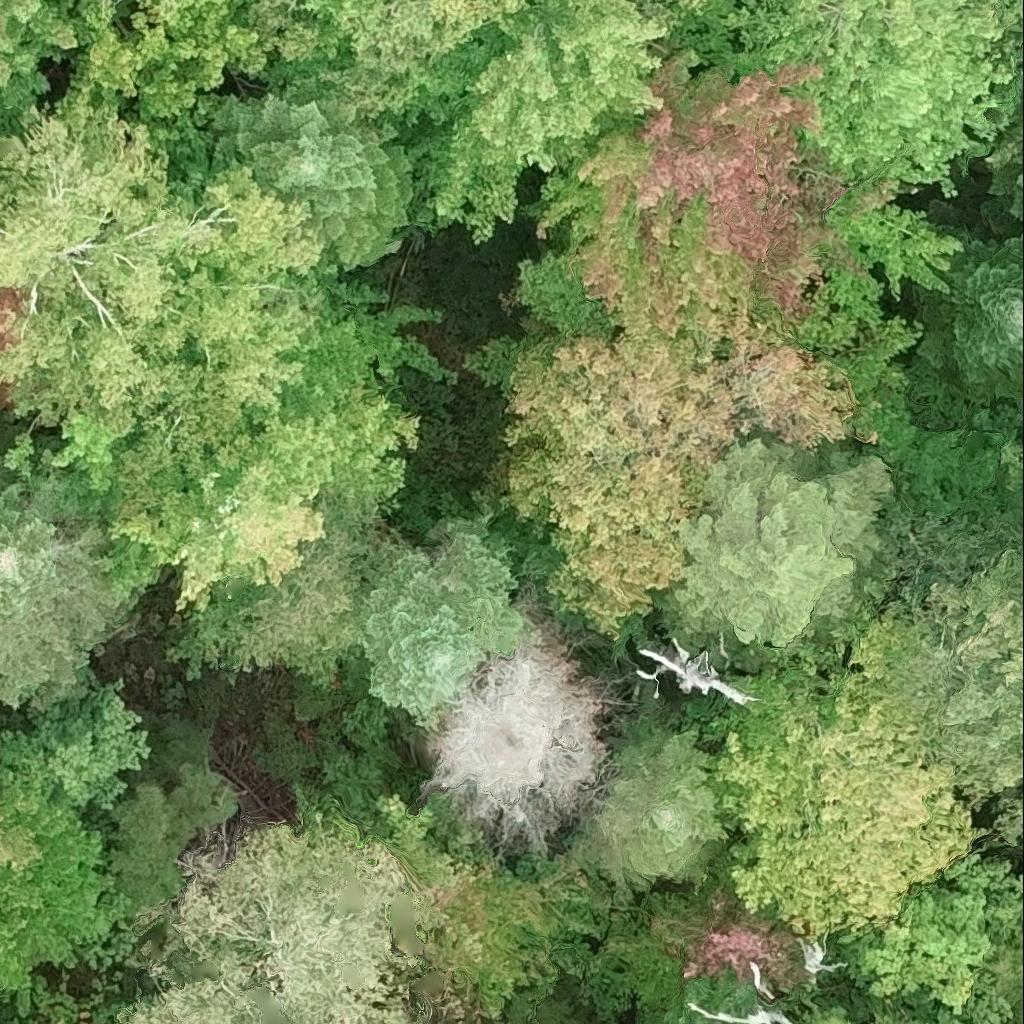crown: (503, 6, 960, 351), (465, 306, 922, 644), (11, 260, 442, 609), (0, 106, 330, 469), (714, 594, 979, 943), (399, 0, 669, 243), (705, 0, 1023, 198), (321, 795, 590, 1019), (122, 828, 420, 1023), (669, 431, 917, 656), (160, 490, 421, 691), (410, 622, 628, 862), (537, 852, 808, 1016), (195, 78, 418, 262), (252, 0, 514, 148), (354, 513, 528, 730), (0, 759, 133, 1017), (562, 713, 727, 904), (833, 860, 1023, 1023), (63, 0, 279, 142), (0, 481, 124, 702), (0, 674, 151, 817), (915, 231, 1023, 415), (0, 0, 114, 121), (962, 558, 1023, 768), (629, 636, 749, 709), (631, 0, 698, 38), (527, 998, 620, 1023), (808, 1005, 868, 1023), (696, 0, 738, 23), (883, 1022, 899, 1023)
